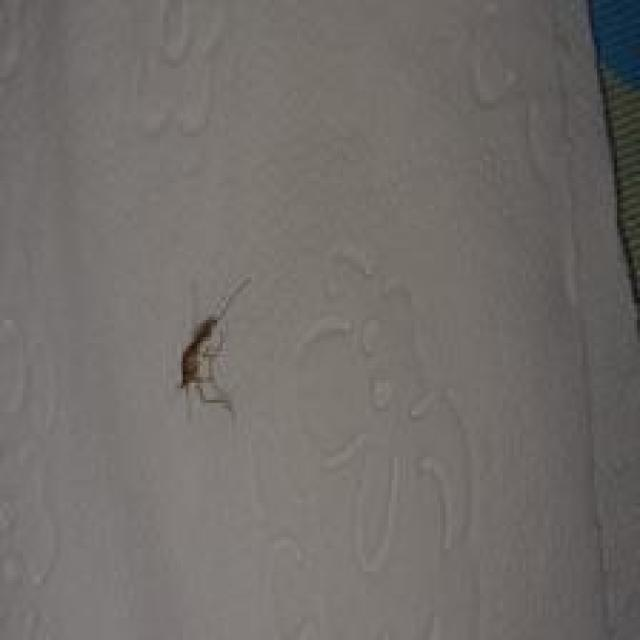Culex: (176, 274, 253, 417)
